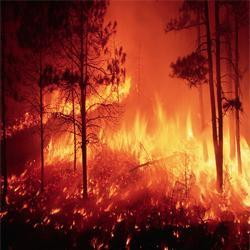fire: (129, 108, 206, 193), (221, 147, 250, 198), (46, 137, 74, 166)
